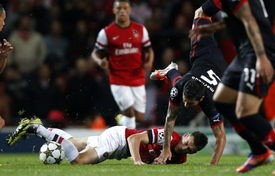fall: (152, 20, 235, 154)
